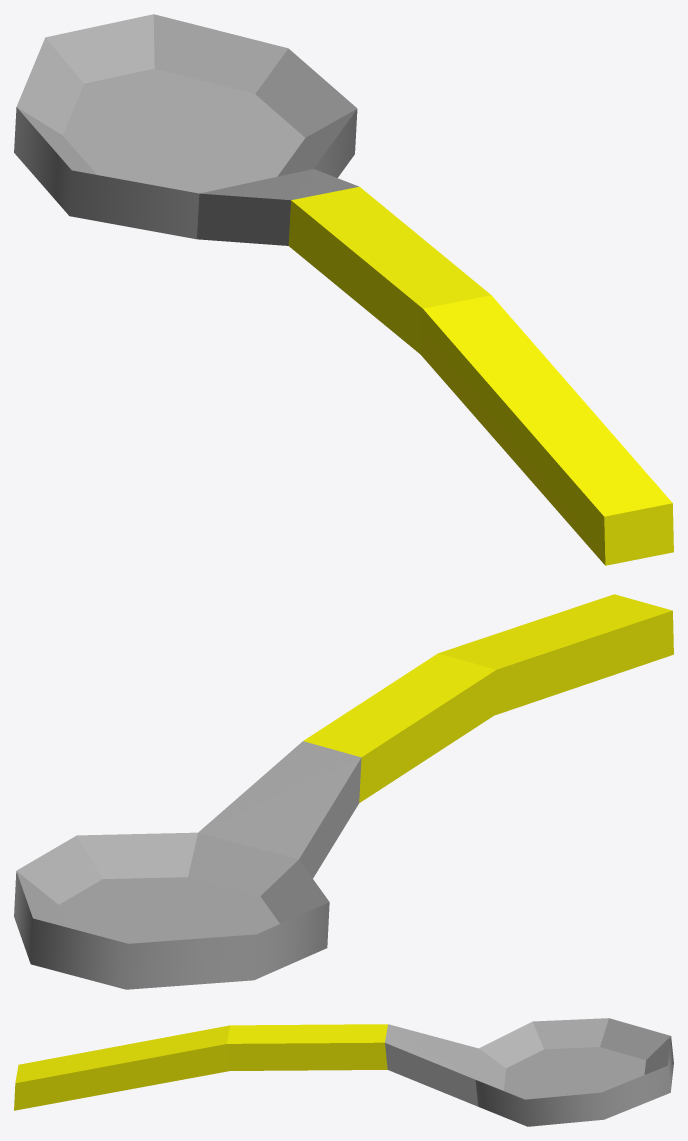
The model's file is Spoon_Yellow.fbx.
3 renders of one model, top to bottom at view 1: azimuth 30°, elevation 25°; view 2: azimuth 150°, elevation 25°; view 3: azimuth 270°, elevation 25°, orthographic. The views are drawn at different scales.
Parts seen in each view (by area): view 1: Spoon_Yellow; view 2: Spoon_Yellow; view 3: Spoon_Yellow.
Part boxes in pixels (<box>): Spoon_Yellow: <box>14,14,673,565</box>; Spoon_Yellow: <box>14,594,673,989</box>; Spoon_Yellow: <box>14,1018,673,1126</box>.
Bounding box in the file's own units: 4.45 × 1.91 × 16.02.
